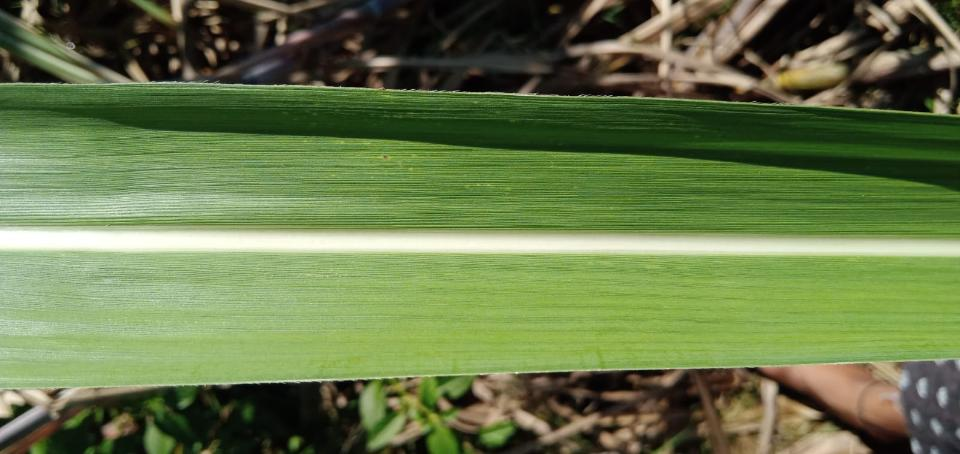Healthy: (0, 83, 959, 387)
